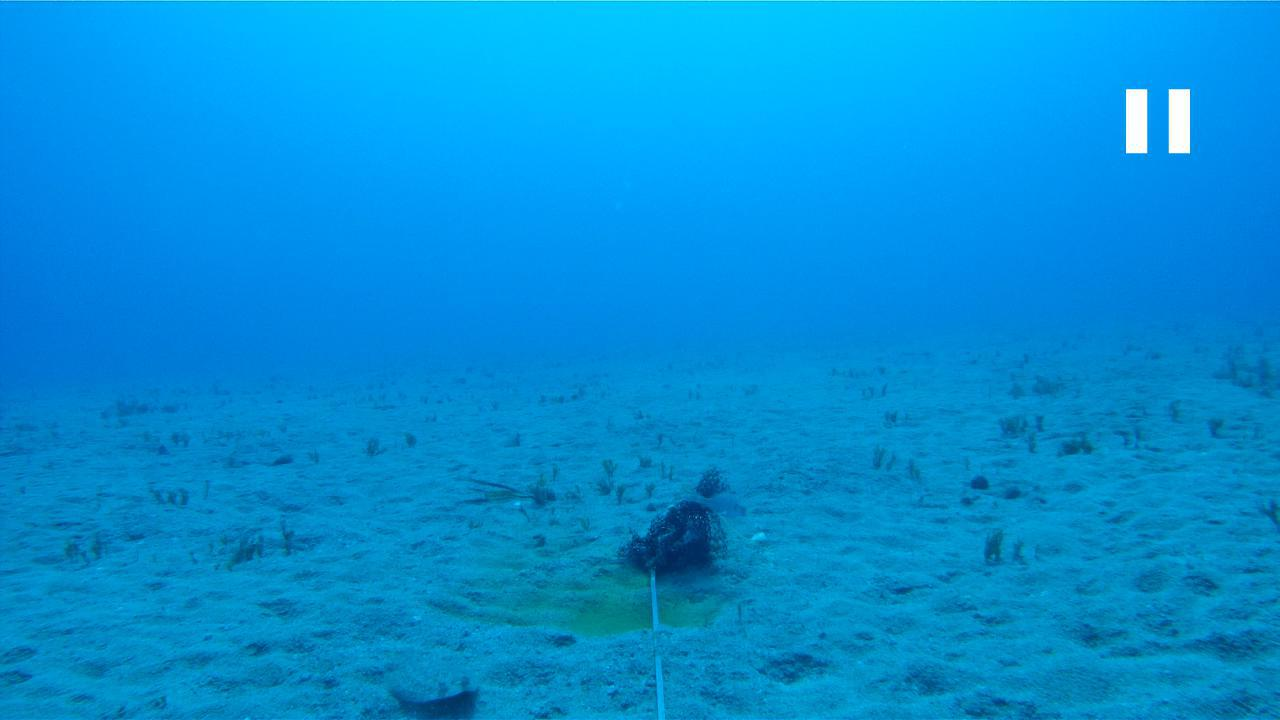bothus: (381, 652, 478, 706)
